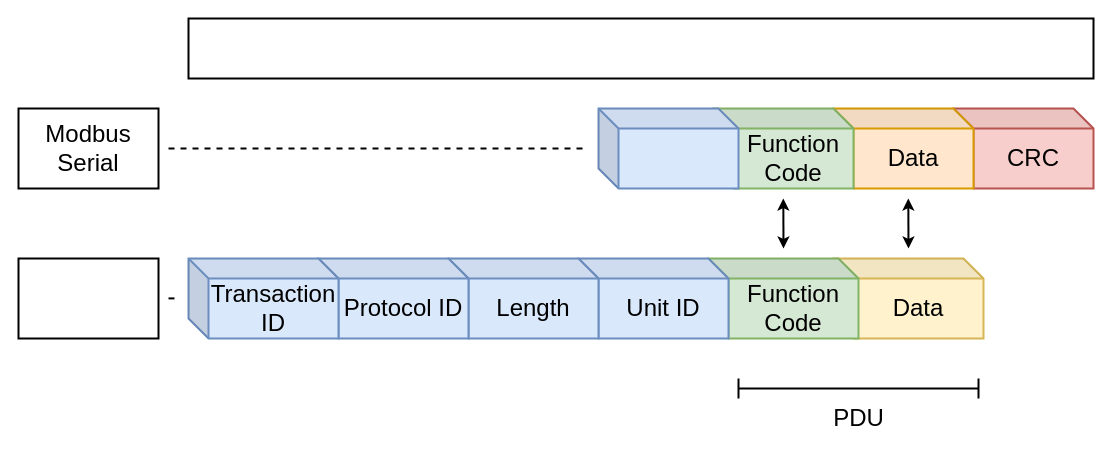
The diagram is 1111 pixels wide and 450 high, and some of its shapes have lost their labels. The shapes that lost their labels are listed below. From the top down, each one's box as (x1, y1, x2, y2) in pixels, then its label:
(187, 17, 1094, 79): APPLICATION DATA UNIT
(597, 107, 739, 189): Slave ID
(17, 257, 159, 339): Modbus TCP
